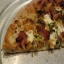pizza: (1, 4, 64, 59)
